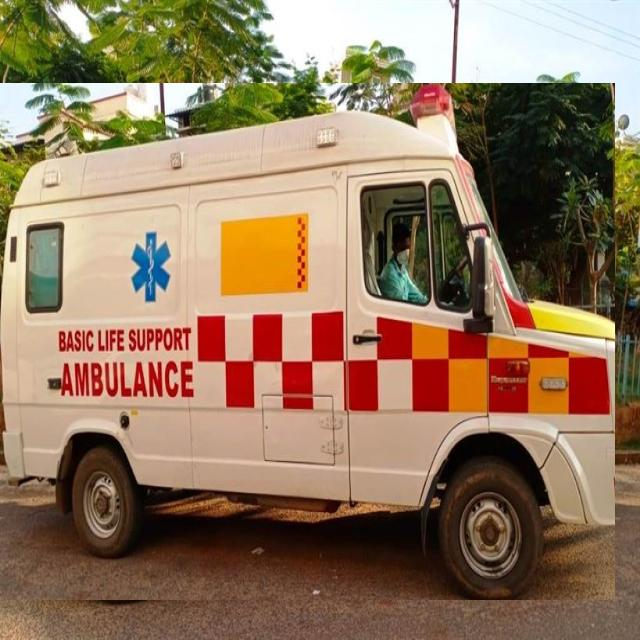emergency: (0, 84, 615, 600)
